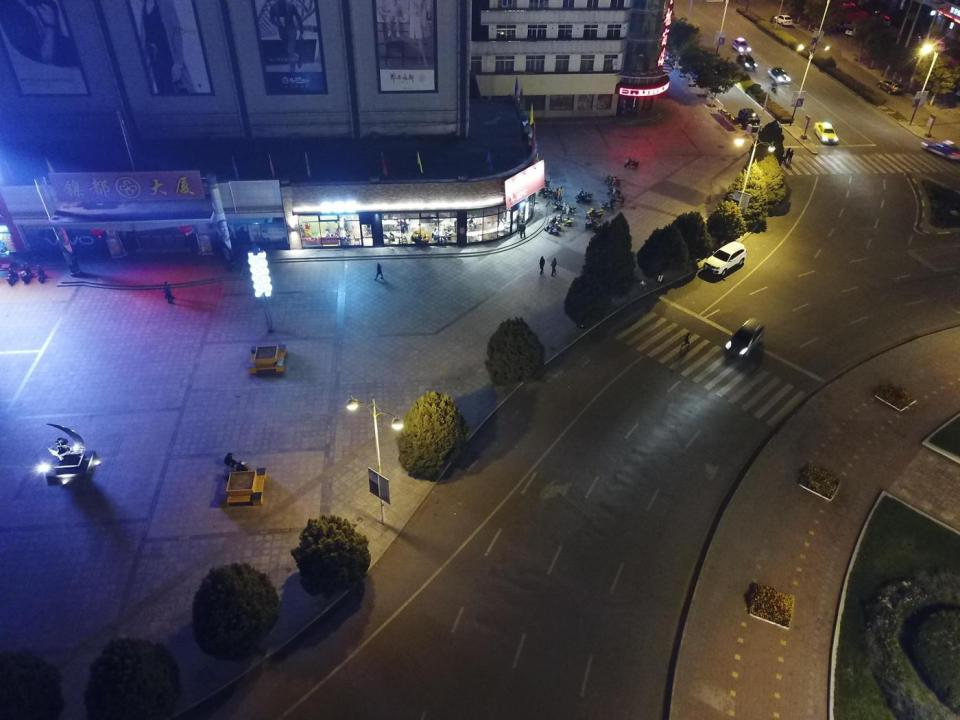car: (725, 318, 764, 358), (704, 241, 746, 274), (921, 140, 960, 160), (813, 122, 839, 146), (738, 108, 761, 133), (877, 80, 903, 96), (736, 52, 758, 70), (769, 66, 790, 84), (732, 36, 751, 54), (774, 14, 794, 26), (844, 25, 862, 35), (877, 14, 889, 25), (839, 1, 854, 9)
van: (926, 37, 946, 51)
